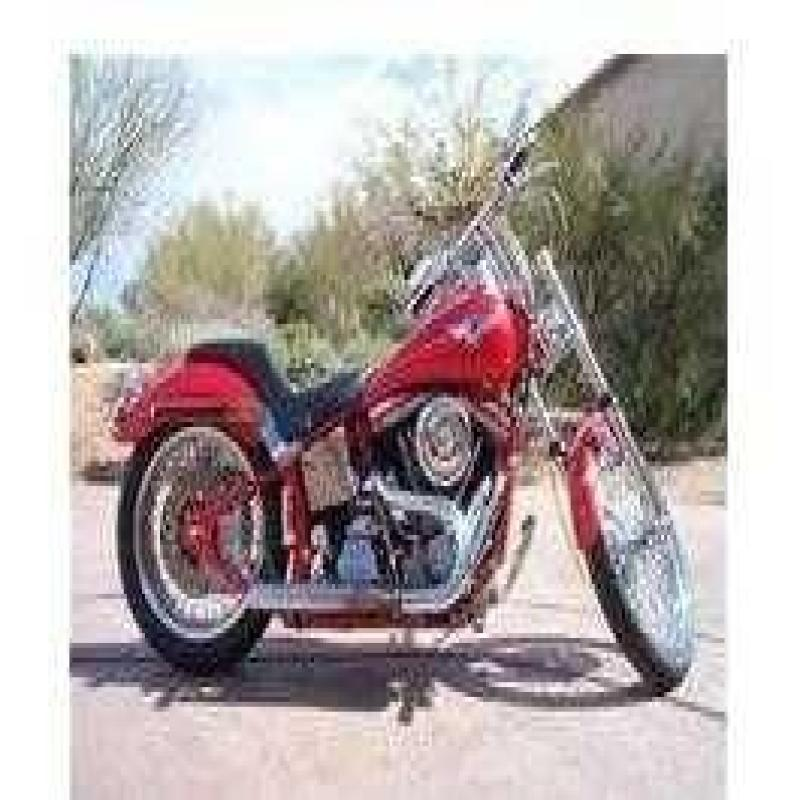bike: (118, 107, 694, 720)
